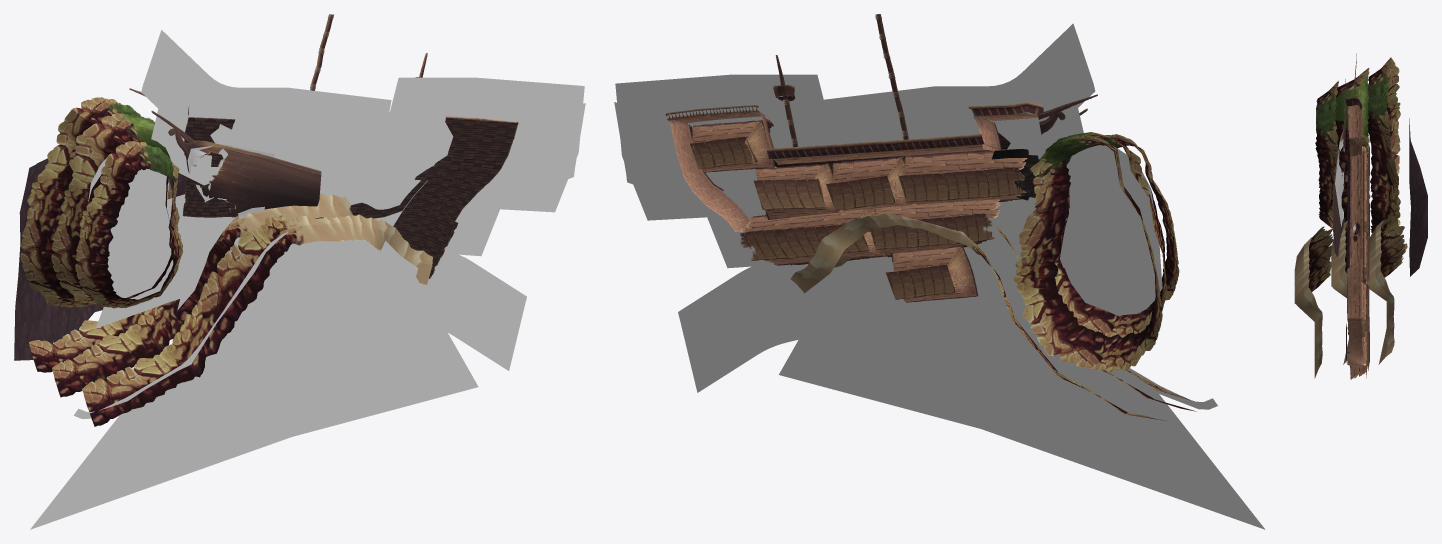
The model's file is LVL12 Pt3.FBX.
The picture shows the model from 3 angles, left to right: view 1: azimuth 30°, elevation 25°; view 2: azimuth 150°, elevation 25°; view 3: azimuth 270°, elevation 25°; orthographic projection. The views are drawn at different scales.
Visible parts, largest first — view 1: LVL 12 Black Pt 3_2, LVL 12 Black Room_5, VL12 RockToSand Pt3_2 FG, LVL 12 Black Room_CaptainsCabin, LVL 12 Black Room_4, LVL 12 Black Room_2, Pirate Ship Wood Cover_2, VL12 RockToSand Pt3_2, LVL 12 Black Room_1, LVL 12 Black Pt 3_1, Pirate Ship Ext, VL12 RockToSand Pt3_1 BG (+11 smaller); view 2: LVL 12 Black Pt 3_2, LVL 12 Black Room_1, LVL 12 Black Room_5, LVL 12 Black Room_CaptainsCabin, LVL 12 Black Room_4, VL12 RockToSand Pt3_1 BG, LVL 12 Black Room_6, Pirate Ship Deck Pt3, LVL 12 Black Pt 3_1, Pirate Ship Interior Pt3_1, Pirate Ship Interior Pt3_5, Pirate Ship Interior Pt3_4 (+12 smaller); view 3: VL12 RockToSand Pt3_1 BG, VL12 RockToSand Pt3_2 FG, VL12 RockToSand Pt3_2 BG, Pirate Ship Deck 2 Pt3_1, LVL 12 Dirt BG Pt 3, LVL12 GrassToRock Pt3 BG, LVL12 GrassToRock Pt3, Pirate Ship Deck Pt3, LVL12 GrassToRock Pt3 FG, VL12 RockToSand Pt3_1 FG, VL12 RockToSand Pt3_2, Pirate Ship Ext (+8 smaller).
Part boxes in pixels (bbox=[...]): LVL 12 Black Pt 3_2: bbox=[30, 231, 478, 529]; LVL 12 Black Room_5: bbox=[275, 103, 585, 370]; VL12 RockToSand Pt3_2 FG: bbox=[82, 214, 432, 426]; LVL 12 Black Room_CaptainsCabin: bbox=[390, 77, 584, 212]; LVL 12 Black Room_4: bbox=[95, 95, 419, 328]; LVL 12 Black Room_2: bbox=[256, 106, 443, 226]; Pirate Ship Wood Cover_2: bbox=[393, 117, 518, 278]; VL12 RockToSand Pt3_2: bbox=[52, 193, 352, 397]; LVL 12 Black Room_1: bbox=[141, 30, 391, 225]; LVL 12 Black Pt 3_1: bbox=[88, 157, 173, 297]; Pirate Ship Ext: bbox=[151, 110, 321, 217]; VL12 RockToSand Pt3_1 BG: bbox=[20, 109, 92, 307]; LVL 12 Black Pt 3_2: bbox=[779, 336, 1265, 529]; LVL 12 Black Room_1: bbox=[824, 23, 1155, 296]; LVL 12 Black Room_5: bbox=[614, 102, 981, 392]; LVL 12 Black Room_CaptainsCabin: bbox=[615, 74, 825, 220]; LVL 12 Black Room_4: bbox=[820, 108, 1133, 342]; VL12 RockToSand Pt3_1 BG: bbox=[1013, 148, 1162, 372]; LVL 12 Black Room_6: bbox=[833, 258, 1038, 353]; Pirate Ship Deck Pt3: bbox=[665, 102, 1043, 232]; LVL 12 Black Pt 3_1: bbox=[1068, 145, 1162, 314]; Pirate Ship Interior Pt3_1: bbox=[898, 149, 1027, 204]; Pirate Ship Interior Pt3_5: bbox=[740, 208, 887, 265]; Pirate Ship Interior Pt3_4: bbox=[870, 199, 1000, 257]; VL12 RockToSand Pt3_1 BG: bbox=[1369, 57, 1400, 232]; VL12 RockToSand Pt3_2 FG: bbox=[1294, 226, 1332, 378]; VL12 RockToSand Pt3_2 BG: bbox=[1367, 215, 1407, 364]; Pirate Ship Deck 2 Pt3_1: bbox=[1347, 104, 1363, 318]; LVL 12 Dirt BG Pt 3: bbox=[1409, 118, 1427, 276]; LVL12 GrassToRock Pt3 BG: bbox=[1367, 57, 1391, 147]; LVL12 GrassToRock Pt3: bbox=[1335, 68, 1369, 157]; Pirate Ship Deck Pt3: bbox=[1345, 96, 1364, 368]; LVL12 GrassToRock Pt3 FG: bbox=[1315, 80, 1338, 162]; VL12 RockToSand Pt3_1 FG: bbox=[1317, 84, 1338, 228]; VL12 RockToSand Pt3_2: bbox=[1331, 220, 1349, 364]; Pirate Ship Ext: bbox=[1333, 79, 1345, 257].
Size of the model in its own units: 6658 by 1541 by 4906.
10 materials, 10 textured.
